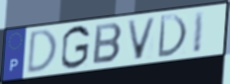B: (91, 22, 125, 66)
D: (25, 28, 59, 77), (156, 13, 189, 59)
G: (59, 24, 91, 71)
I: (191, 9, 206, 55)
V: (125, 16, 159, 62)
